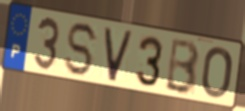3: (32, 16, 62, 73), (135, 34, 165, 88)
B: (163, 37, 201, 97)
O: (200, 45, 235, 101)
S: (63, 21, 101, 79)
V: (102, 25, 135, 84)
